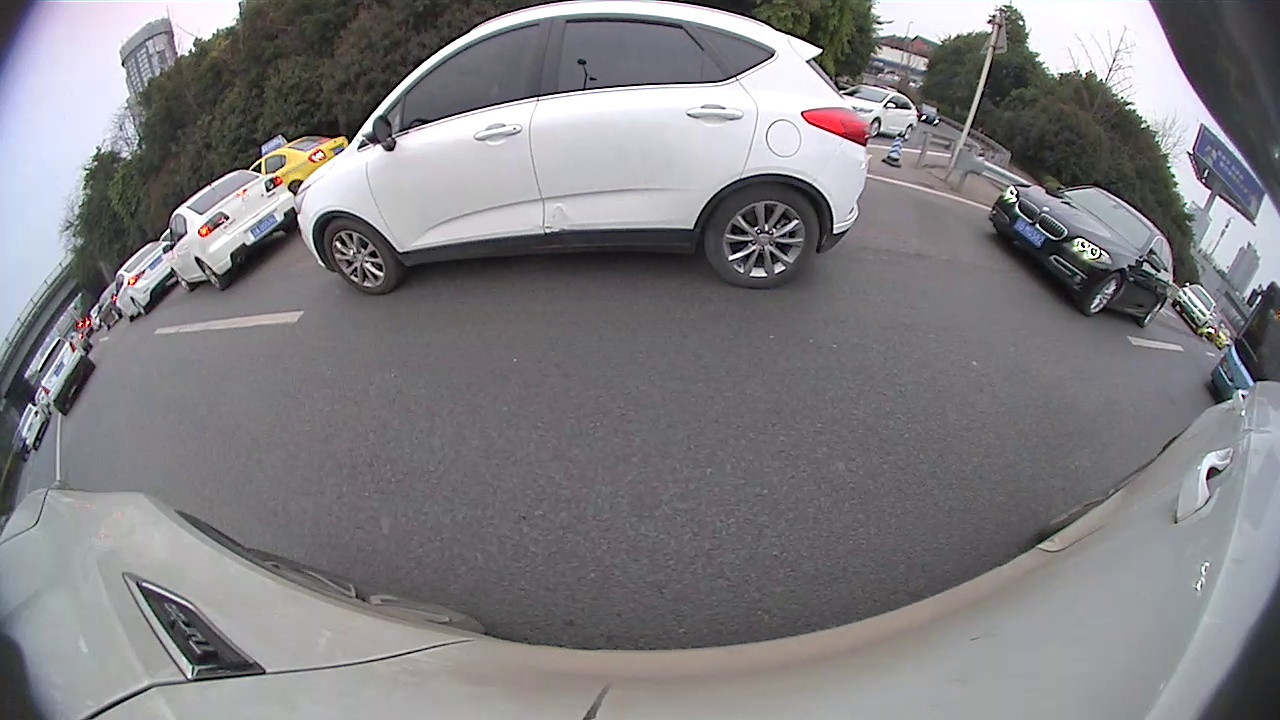car: (290, 1, 867, 297), (986, 182, 1177, 327), (160, 169, 298, 295), (244, 133, 349, 193), (27, 331, 97, 418), (111, 235, 179, 320), (838, 81, 923, 143), (1173, 280, 1217, 333)
front: (319, 216, 400, 297), (1079, 270, 1124, 319), (171, 268, 196, 294), (866, 117, 882, 139)
rear: (702, 184, 820, 291), (197, 257, 226, 292), (1136, 299, 1165, 329), (902, 123, 914, 142)
